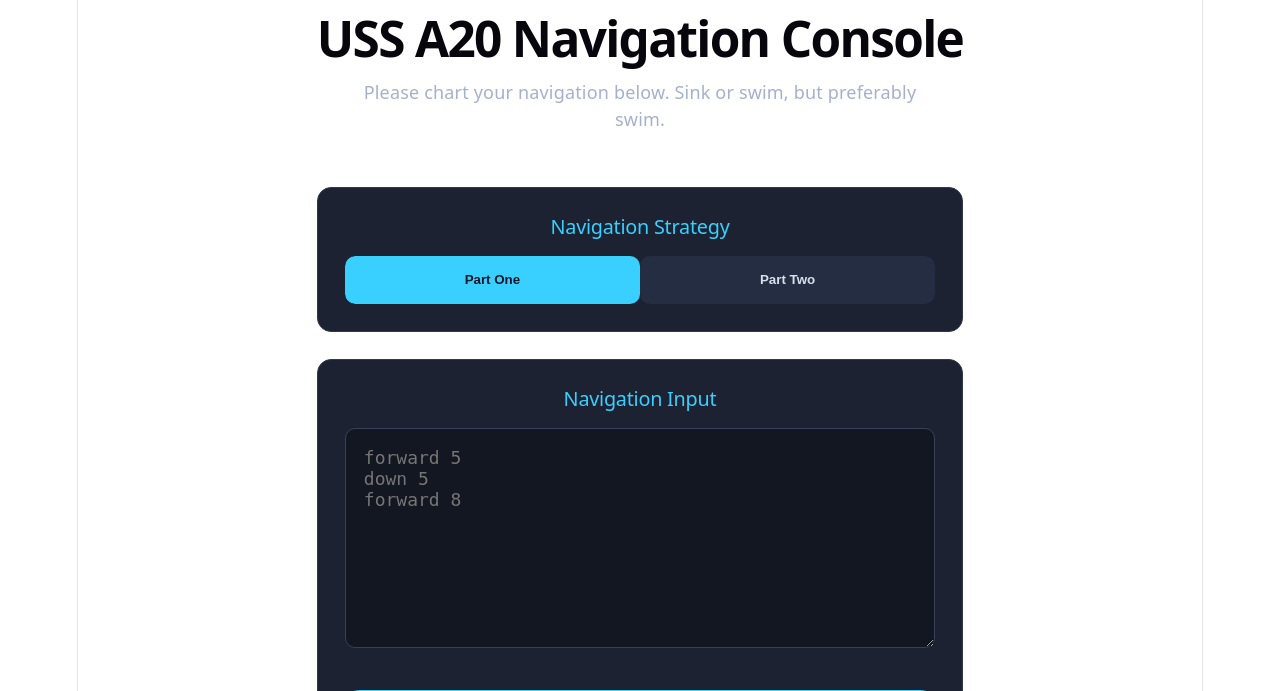
Test: NavigationSolver (integration) › shows parsing errors
Type "forward bananas" into the text box at point(640, 538), box [345,428,935,648]
(page scrolled)
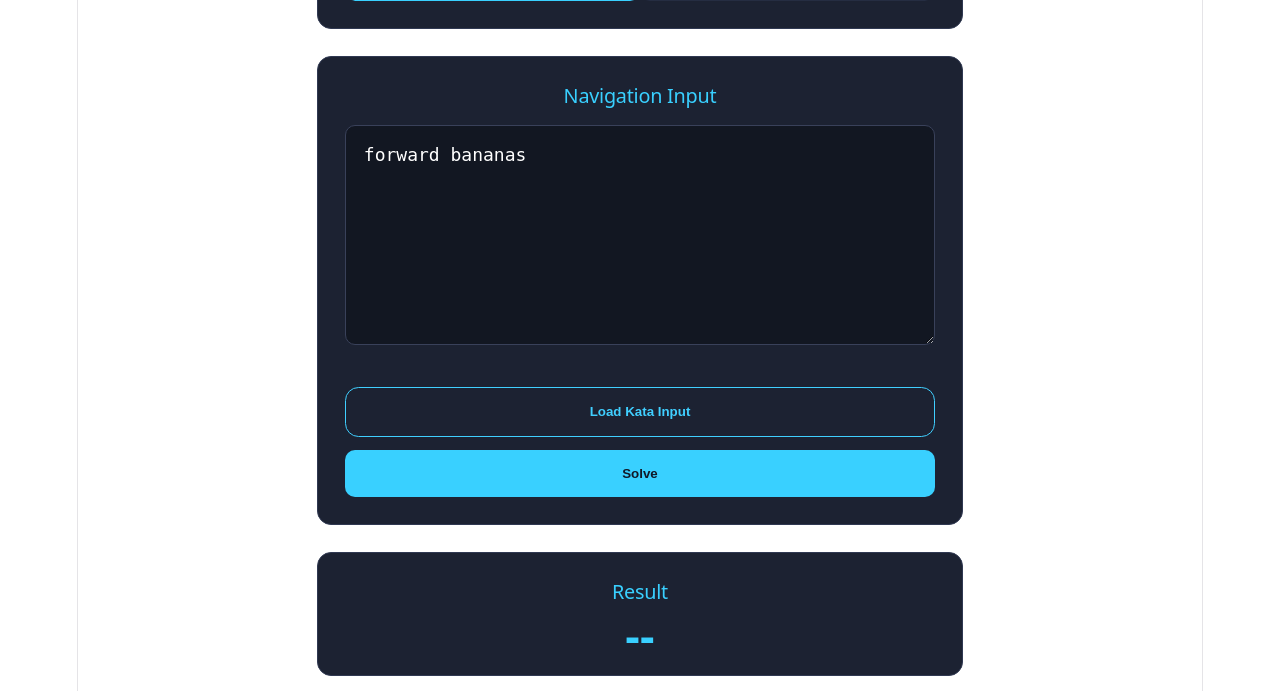
Click the button "Solve" at point(640, 474), box [345,450,935,497]
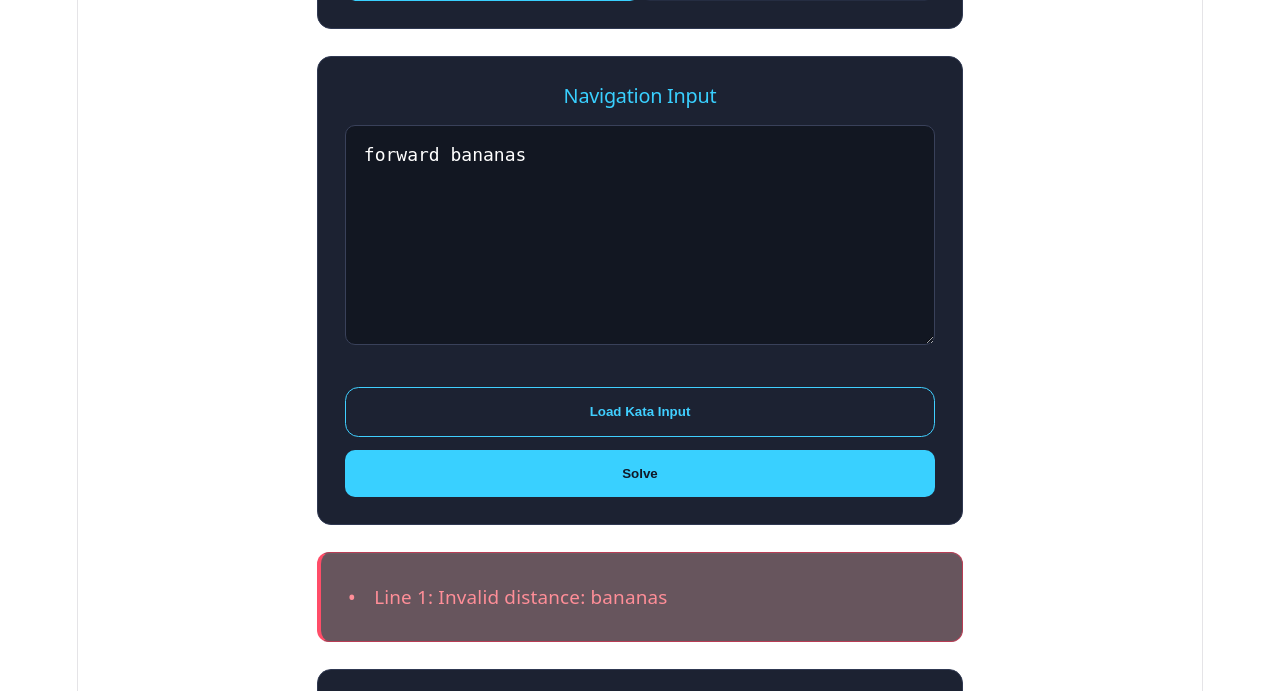
expect the message shows "Line 1: Invalid distance: bananas": met, box [374,584,668,610]
